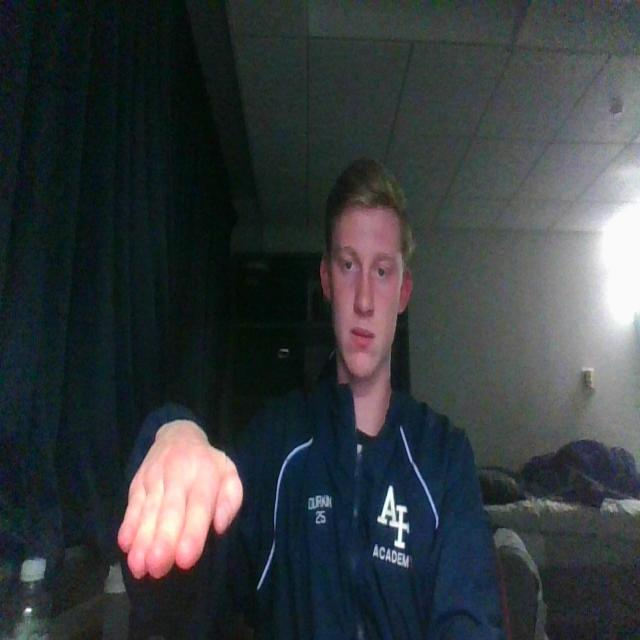paper: (112, 418, 247, 584)
